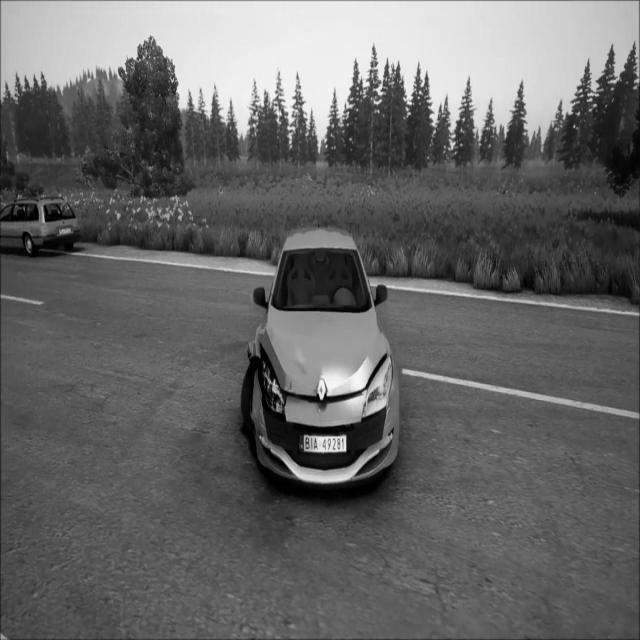accident: (237, 222, 405, 500)
vehicle: (1, 186, 86, 262)
